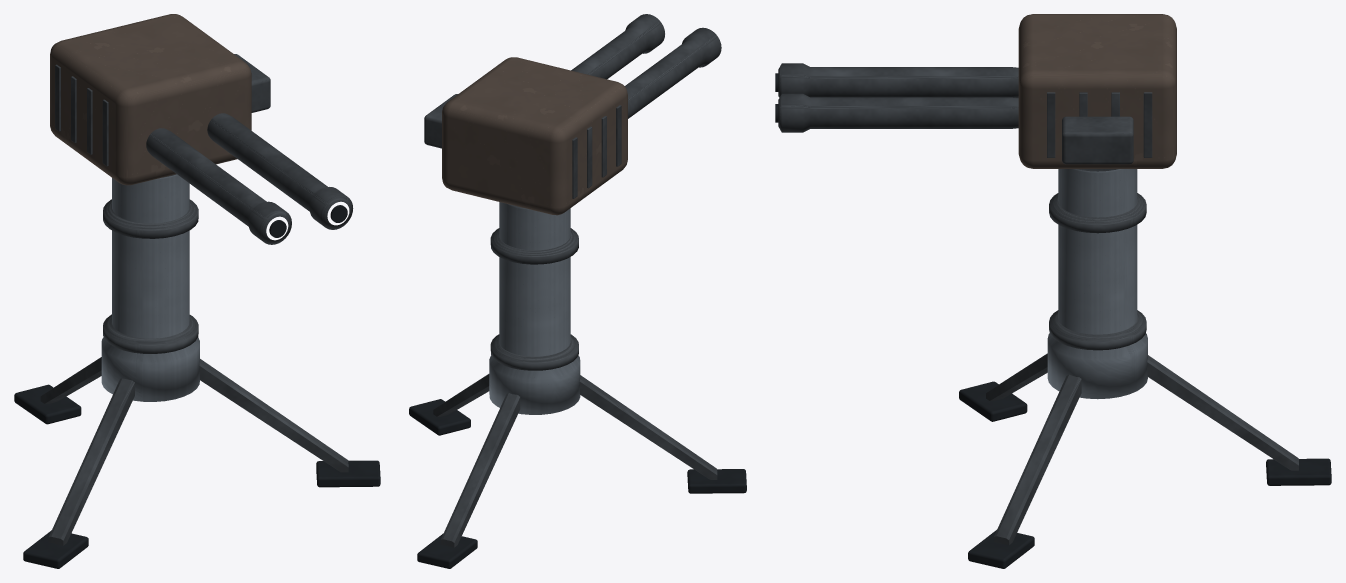
File: turret.glb
The picture shows the model from 3 angles, left to right: view 1: azimuth 30°, elevation 25°; view 2: azimuth 150°, elevation 25°; view 3: azimuth 270°, elevation 25°; orthographic projection. The views are drawn at different scales.
Visible parts, largest first — view 1: darksteel / oil-blackened fittings, ceramic / ceramic composite panel, alloy / machined anodized alloy, polymer / stippled polymer; view 2: ceramic / ceramic composite panel, darksteel / oil-blackened fittings, alloy / machined anodized alloy, polymer / stippled polymer; view 3: darksteel / oil-blackened fittings, ceramic / ceramic composite panel, alloy / machined anodized alloy, polymer / stippled polymer.
Part boxes in pixels (box(x1,y1,x2,y2)): darksteel / oil-blackened fittings: box(40, 54, 353, 545); ceramic / ceramic composite panel: box(50, 14, 251, 185); alloy / machined anodized alloy: box(101, 174, 199, 401); polymer / stippled polymer: box(14, 205, 380, 568); ceramic / ceramic composite panel: box(442, 57, 627, 215); darksteel / oil-blackened fittings: box(424, 14, 721, 547); alloy / machined anodized alloy: box(489, 202, 580, 414); polymer / stippled polymer: box(409, 399, 746, 568); darksteel / oil-blackened fittings: box(778, 63, 1298, 545); ceramic / ceramic composite panel: box(1018, 14, 1176, 168); alloy / machined anodized alloy: box(1047, 169, 1147, 399); polymer / stippled polymer: box(775, 73, 1331, 568).
Size of the model in its own units: 0.5898 by 0.671 by 0.7745.
Materials: 4 (4 with a texture image).
